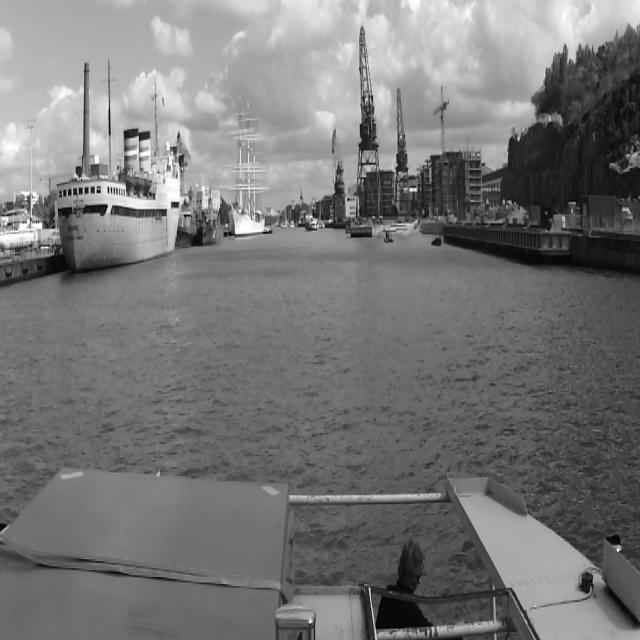ship: (56, 130, 178, 272), (230, 93, 266, 242), (176, 210, 197, 250), (200, 212, 228, 242), (309, 217, 319, 233)
